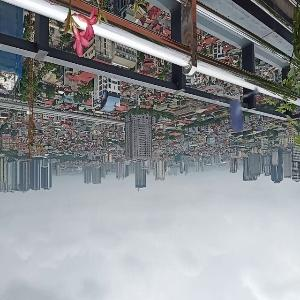drone: (200, 72, 292, 164)
